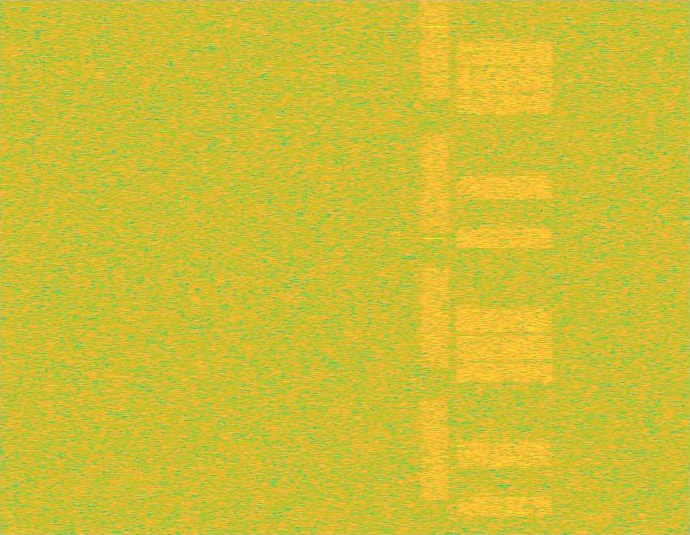5G: (418, 0, 453, 534)
LTE: (453, 0, 556, 534)
Radar: (428, 0, 442, 534)
